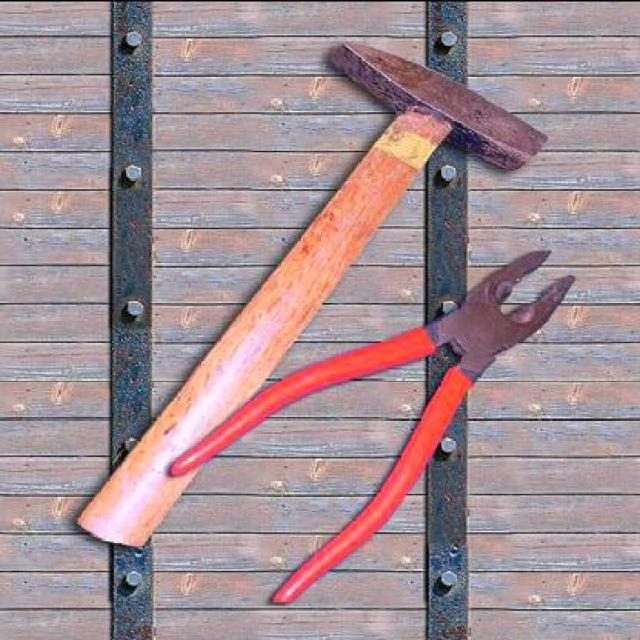pliers: (368, 243, 580, 534)
